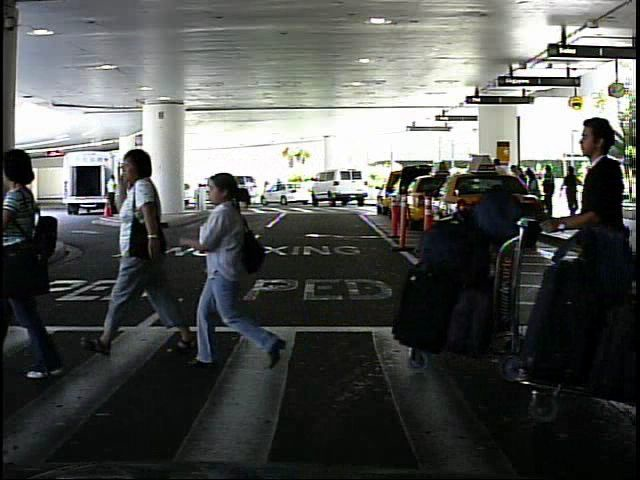person: (0, 134, 90, 382), (181, 159, 265, 382), (113, 138, 189, 359), (554, 95, 640, 230), (585, 172, 605, 217), (101, 172, 119, 203), (260, 178, 271, 204)
